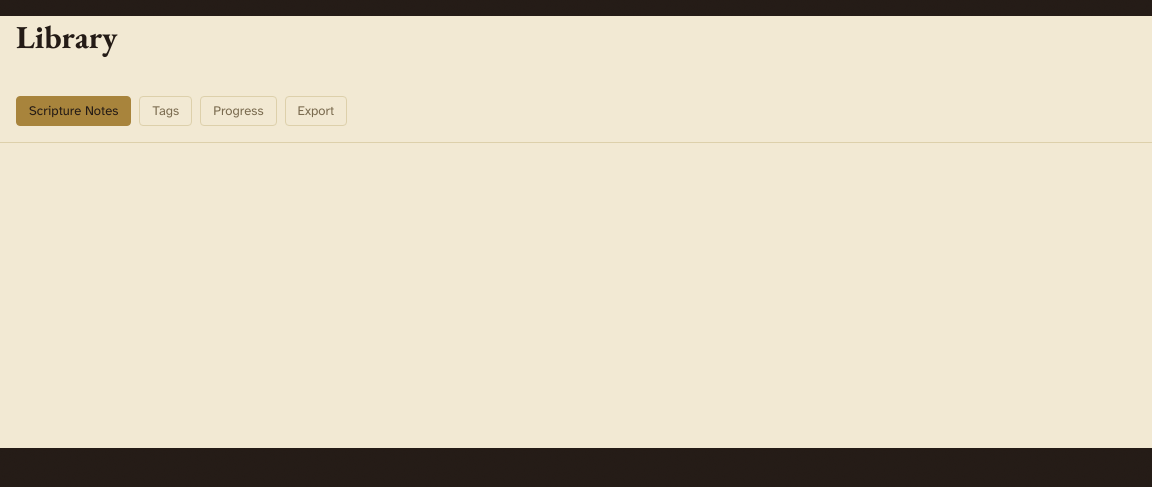
Library section tabs › selects sections by click and exposes the associated panel
What coordinates should you click on to do the following:
click the tab "Export"
I would click on:
 (316, 111)
Its box is [284,96,347,126].
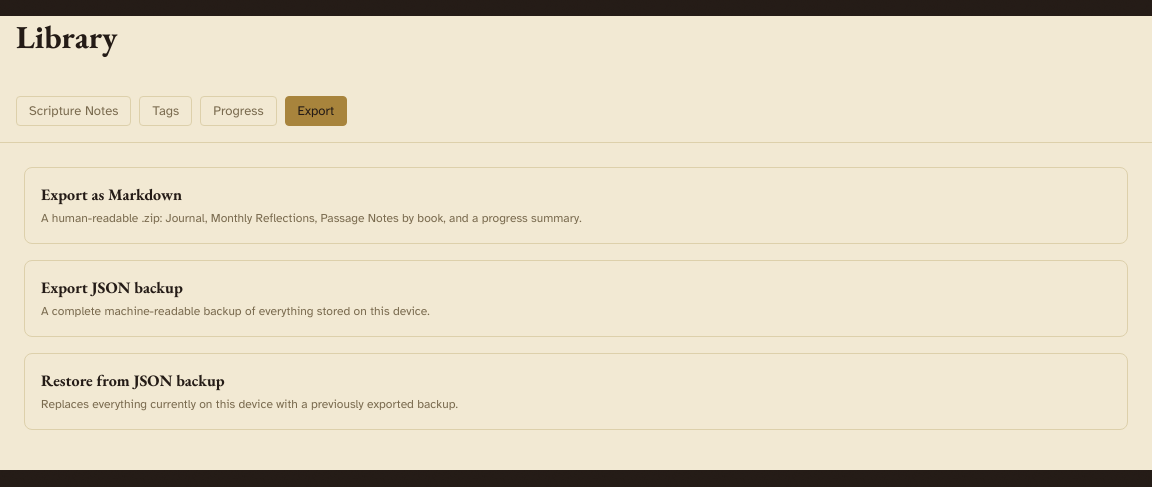
Expected: the button "Export as Markdown" is shown, [24,167,1128,244]
